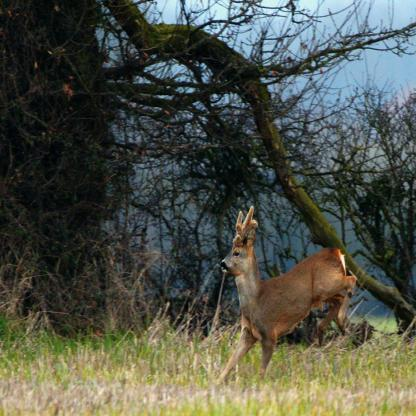Deer: (216, 205, 356, 386)
